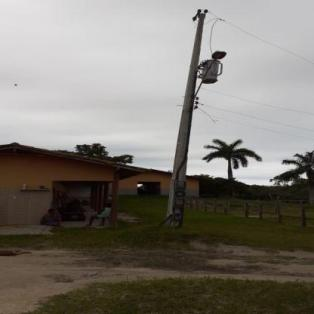Poste: (163, 10, 209, 226)
